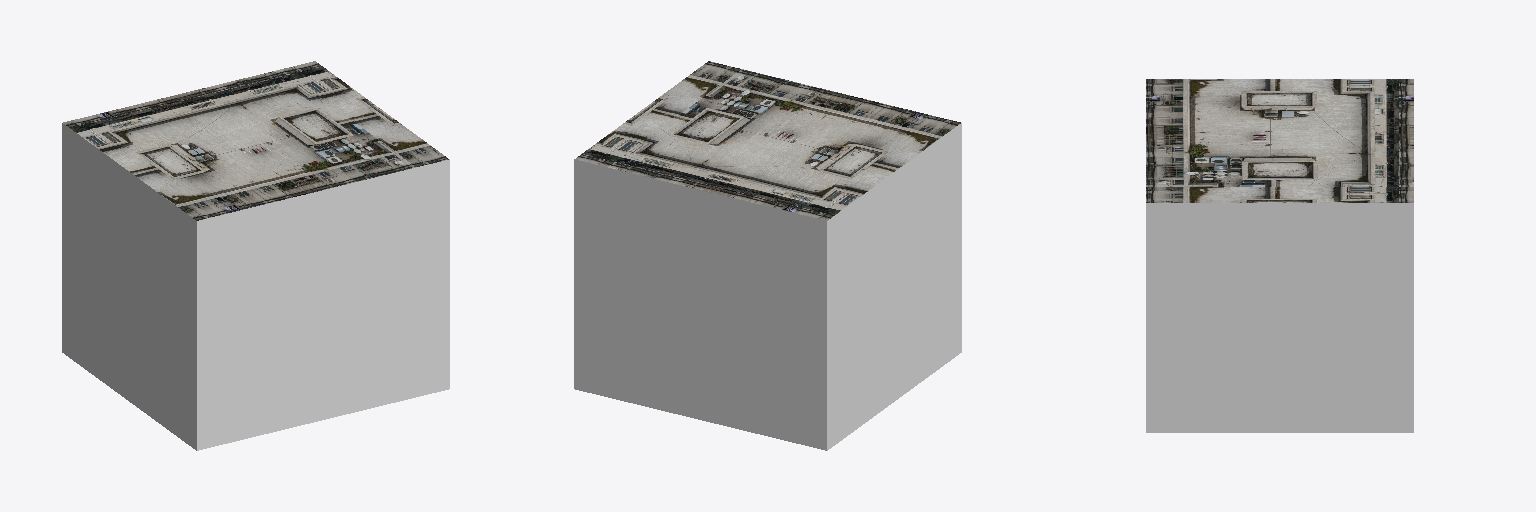
3 renders of one model, left to right at view 1: azimuth 30°, elevation 25°; view 2: azimuth 150°, elevation 25°; view 3: azimuth 270°, elevation 25°, orthographic.
Parts seen in each view (by area): view 1: Building_13.[number redacted]_12.[number redacted]; view 2: Building_13.[number redacted]_12.[number redacted]; view 3: Building_13.[number redacted]_12.[number redacted].
Part boxes in pixels (x1,y1,x2,y2): Building_13.[number redacted]_12.[number redacted]: (62, 61, 449, 450); Building_13.[number redacted]_12.[number redacted]: (574, 61, 961, 450); Building_13.[number redacted]_12.[number redacted]: (1146, 79, 1413, 432).
Size of the model in its own units: 13.81 by 12 by 12.71.
Materials: 2 (1 with a texture image).